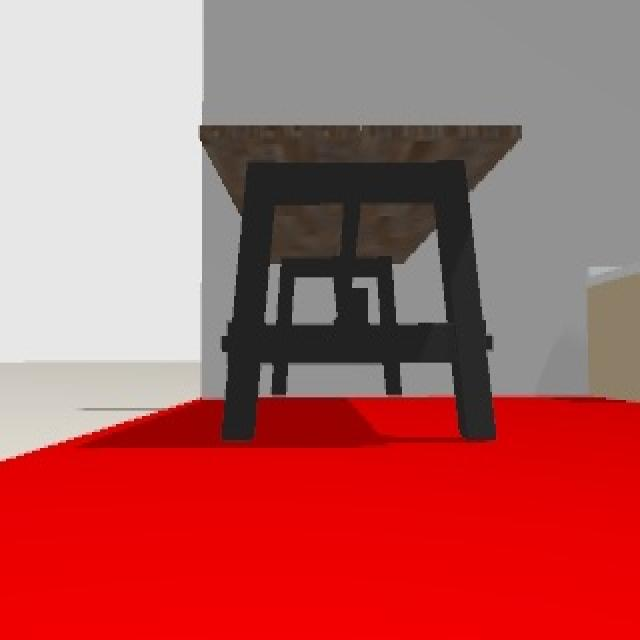dining: (197, 118, 519, 446)
